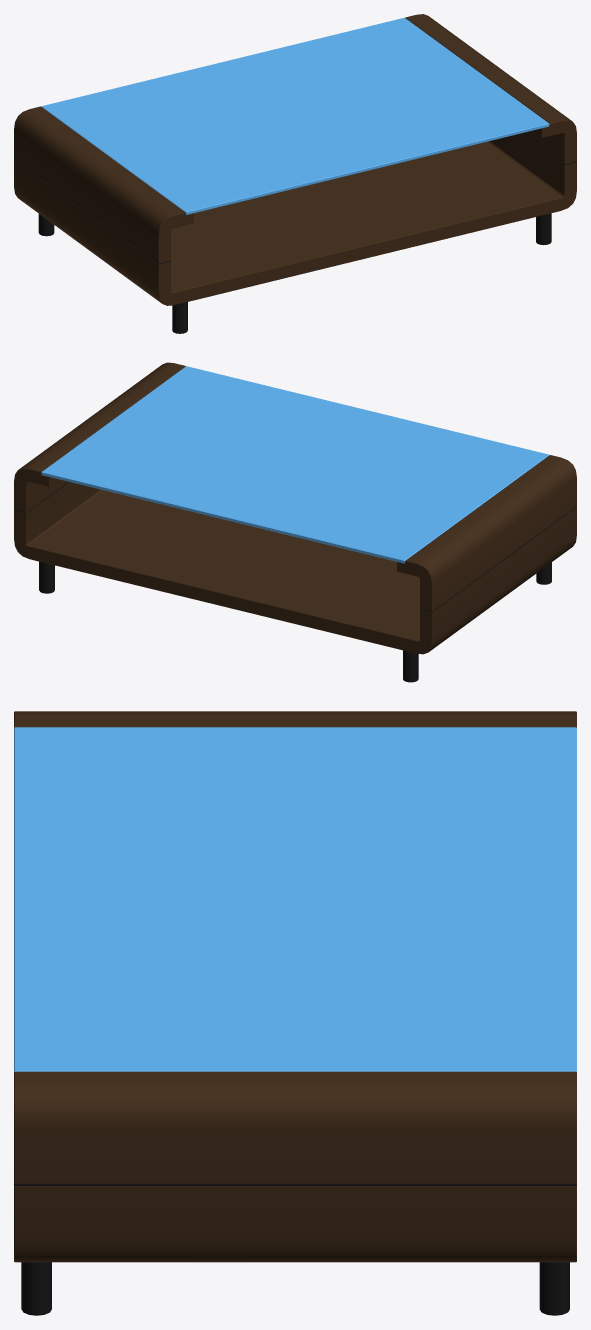
File: Coffee_table.FBX
The picture shows the model from 3 angles, top to bottom: view 1: azimuth 30°, elevation 25°; view 2: azimuth 150°, elevation 25°; view 3: azimuth 270°, elevation 25°; orthographic projection. The views are drawn at different scales.
Visible parts, largest first — view 1: Table; view 2: Table; view 3: Table.
Boxes of the visible parts, <box> form: Table: <box>14,14,576,333</box>; Table: <box>14,362,576,682</box>; Table: <box>14,711,576,1315</box>.
Size of the model in its own units: 100 by 28 by 60.
